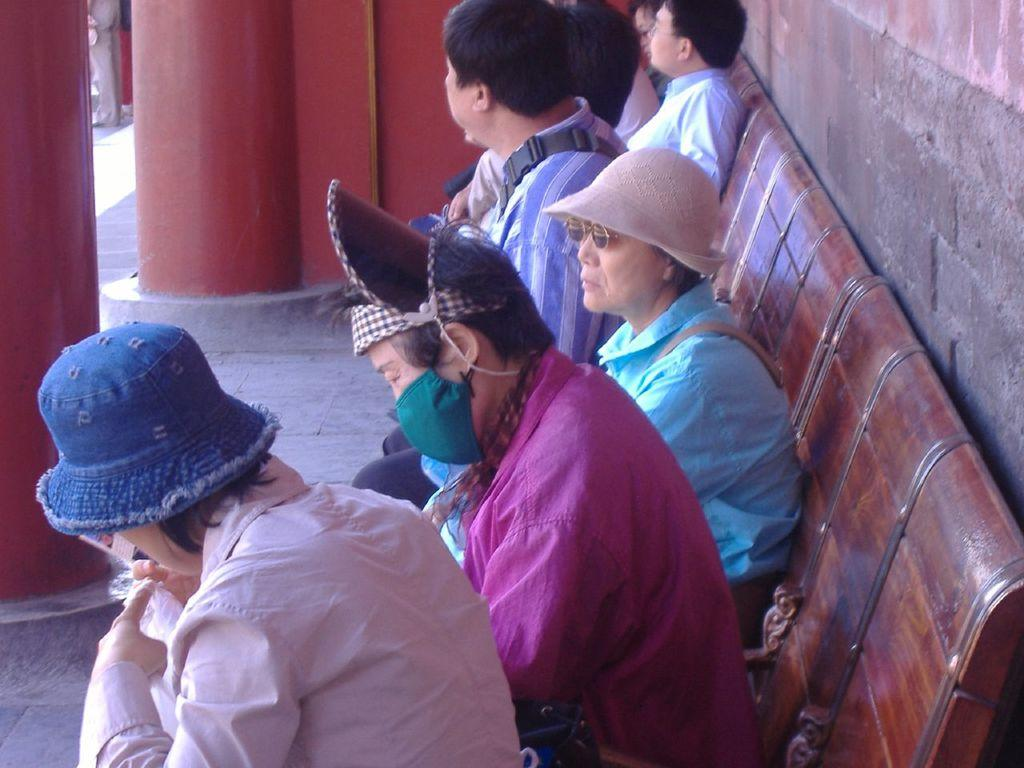Hat: (31, 320, 287, 536), (543, 143, 729, 279)
